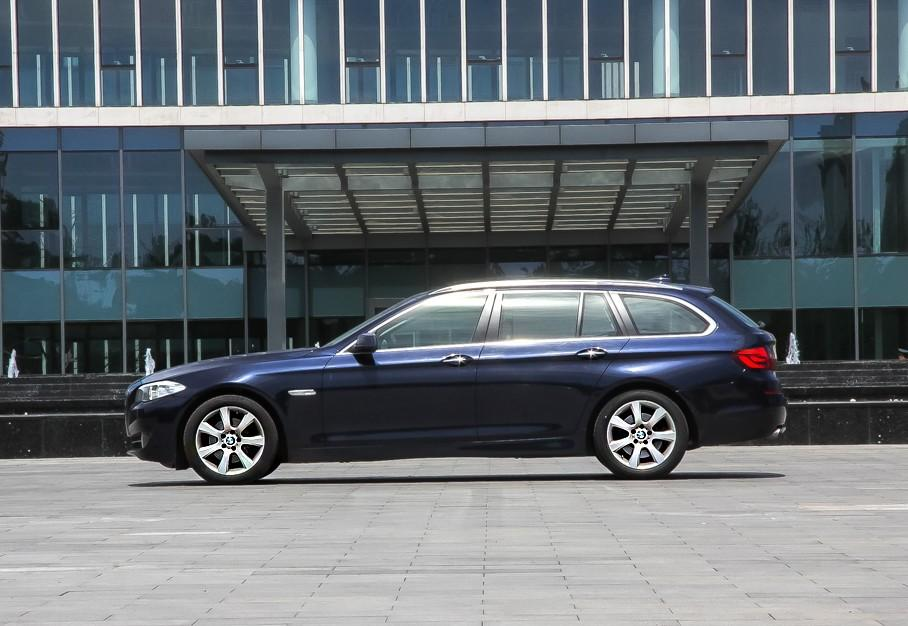Wagon: (124, 279, 788, 483)
